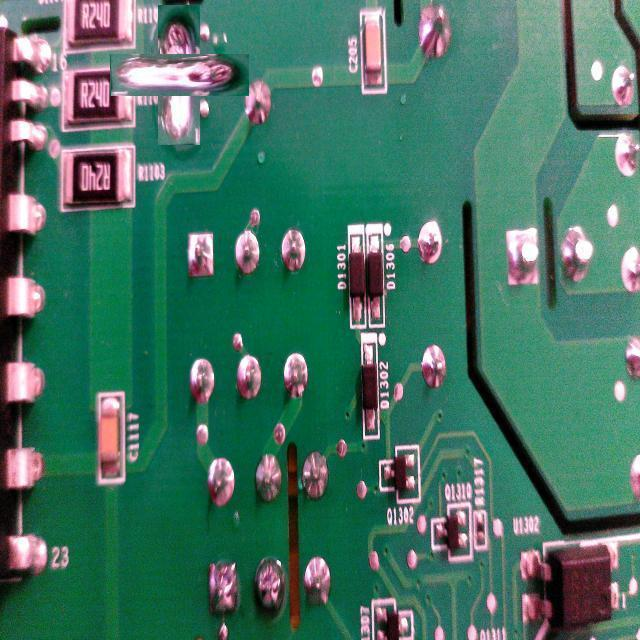Short_circuit: (134, 30, 225, 121)
